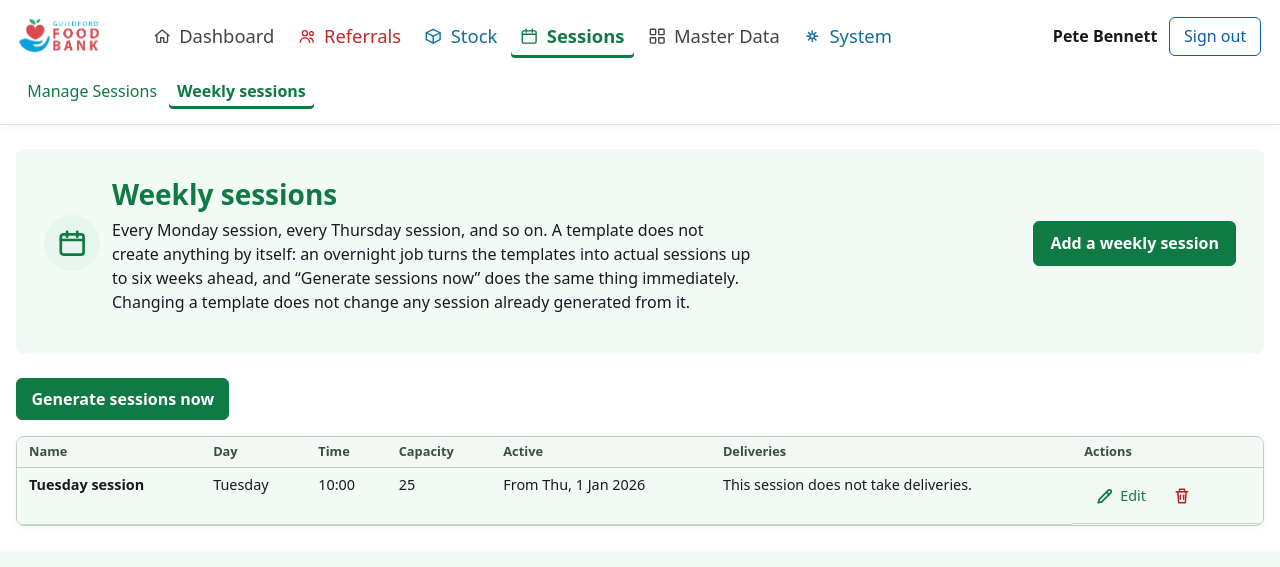
it: generating sessions from the templates › claims no count when the server did not send one
The width and height of the screenshot is (1280, 567).
Click the button "Generate sessions now".
click(123, 399)  # box [16,378,230,420]
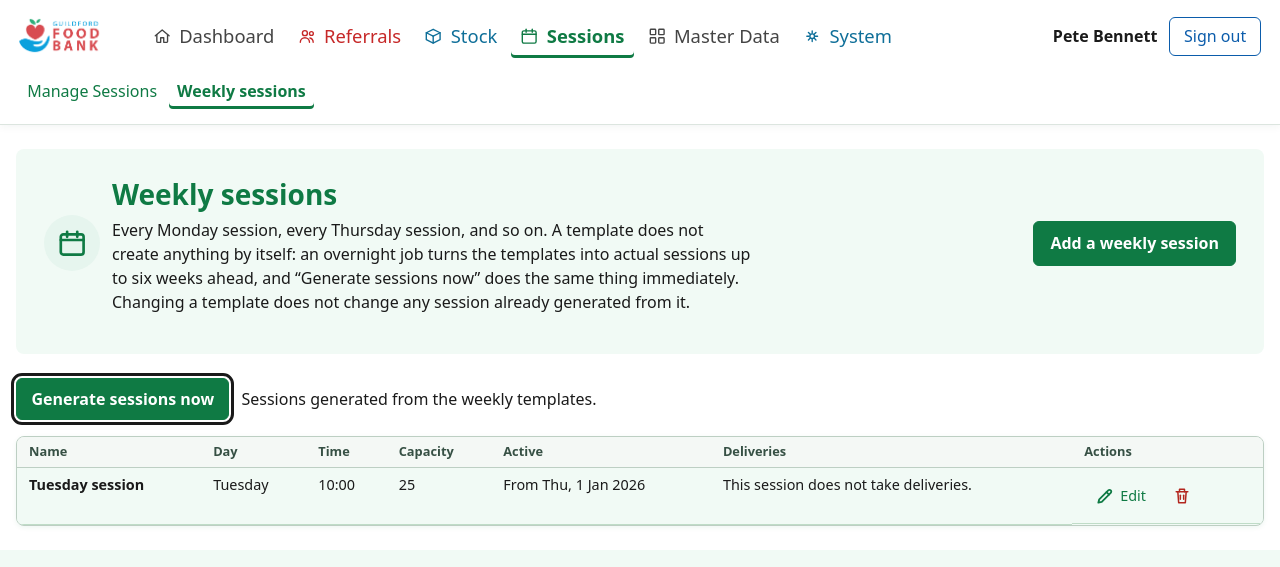
Expected: the text "Sessions generated from the weekly templates." is shown, [242,387,596,411]
